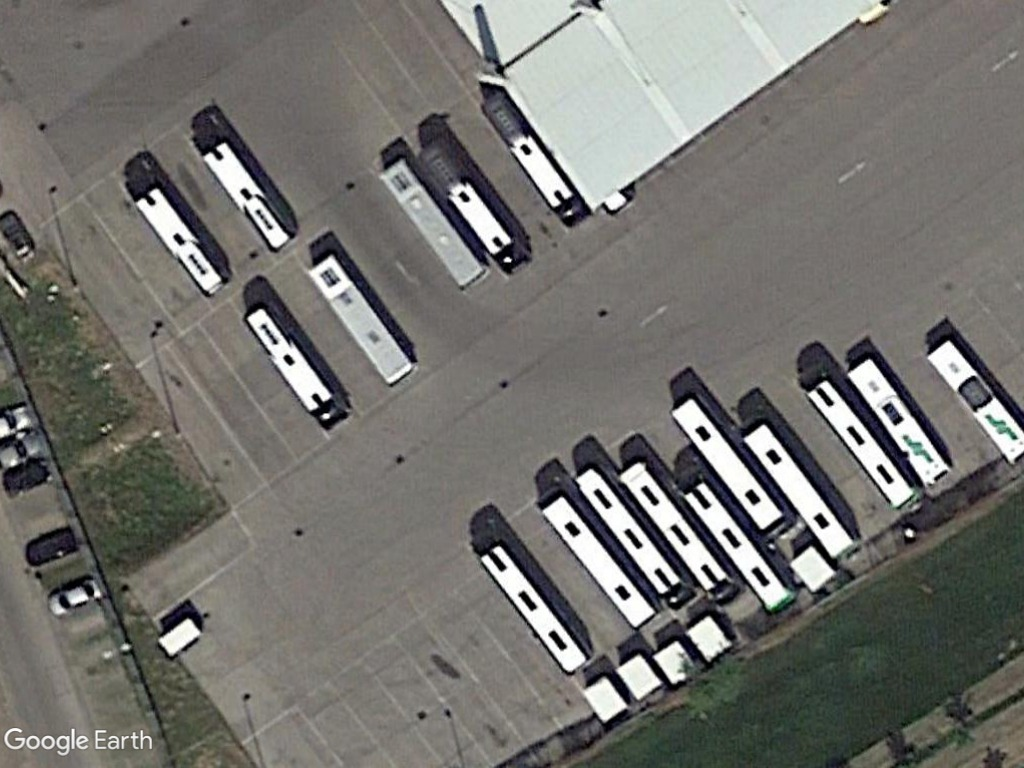bus: (571, 459, 696, 612), (616, 454, 738, 604), (536, 485, 655, 633), (477, 537, 595, 685), (670, 389, 788, 533), (743, 416, 858, 562), (807, 368, 918, 516), (307, 245, 417, 394), (378, 148, 489, 295), (682, 478, 800, 613), (423, 133, 531, 278), (847, 348, 952, 494), (242, 298, 350, 435), (481, 90, 587, 229), (926, 332, 1024, 468), (197, 135, 299, 257), (133, 181, 230, 300)
car: (47, 575, 109, 617)
